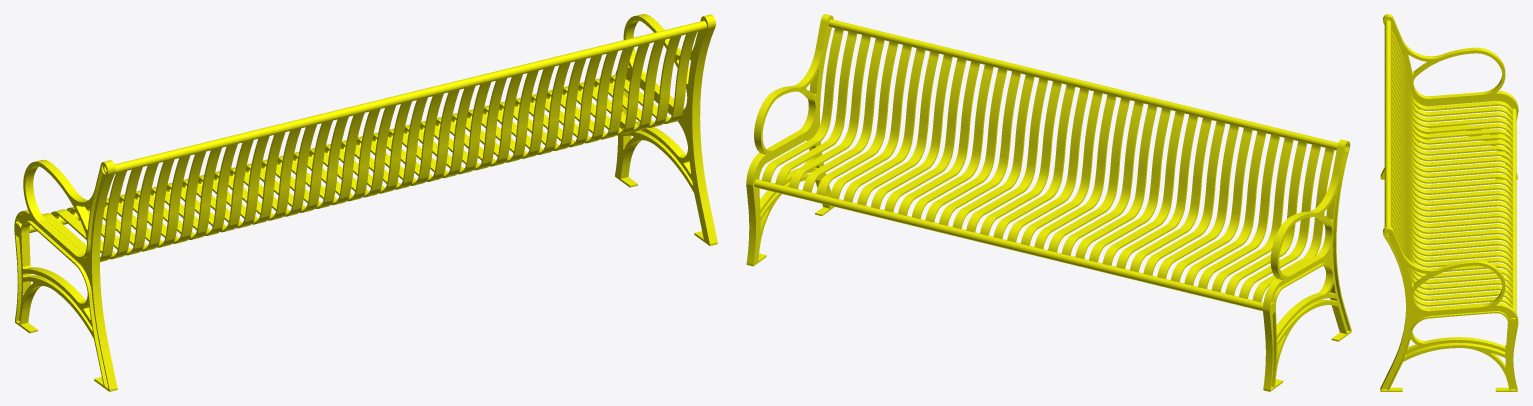
3 views of the same model, side by side, from view 1: azimuth 30°, elevation 25°; view 2: azimuth 150°, elevation 25°; view 3: azimuth 270°, elevation 25° (orthographic). The views are drawn at different scales.
Parts seen in each view (by area): view 1: mesh5_mesh5-geometry, mesh48_mesh48-geometry, mesh64_mesh64-geometry; view 2: mesh5_mesh5-geometry, mesh48_mesh48-geometry, mesh64_mesh64-geometry, mesh4_mesh4-geometry; view 3: mesh5_mesh5-geometry, mesh64_mesh64-geometry, mesh48_mesh48-geometry, mesh4_mesh4-geometry.
Boxes of the visible parts, left/top/right/bottom form: mesh5_mesh5-geometry: left=42, top=21, right=703, bottom=261; mesh48_mesh48-geometry: left=14, top=159, right=117, bottom=391; mesh64_mesh64-geometry: left=615, top=14, right=717, bottom=245; mesh5_mesh5-geometry: left=761, top=20, right=1337, bottom=302; mesh48_mesh48-geometry: left=1263, top=139, right=1351, bottom=391; mesh64_mesh64-geometry: left=746, top=14, right=834, bottom=266; mesh4_mesh4-geometry: left=754, top=179, right=1263, bottom=311; mesh5_mesh5-geometry: left=1384, top=20, right=1512, bottom=308; mesh64_mesh64-geometry: left=1380, top=226, right=1518, bottom=391; mesh48_mesh48-geometry: left=1380, top=14, right=1518, bottom=179; mesh4_mesh4-geometry: left=1512, top=108, right=1516, bottom=313.
Size of the model in its own units: 0.9128 by 0.3243 by 0.2482.
